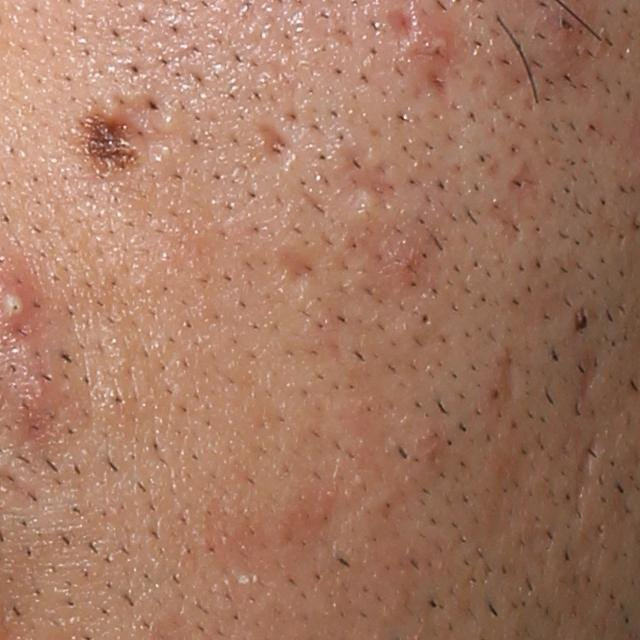atrophic_scar: (484, 155, 549, 248), (338, 152, 393, 215), (274, 246, 327, 298), (256, 125, 298, 171), (495, 351, 524, 409), (387, 8, 418, 42), (578, 361, 601, 406), (577, 438, 600, 477)
nevus: (63, 105, 151, 184), (572, 307, 591, 335)
papule: (417, 24, 457, 69)
